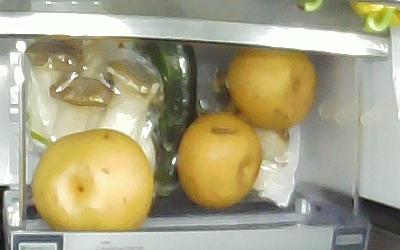pear: (31, 129, 153, 230), (175, 113, 264, 210), (226, 47, 318, 132)
